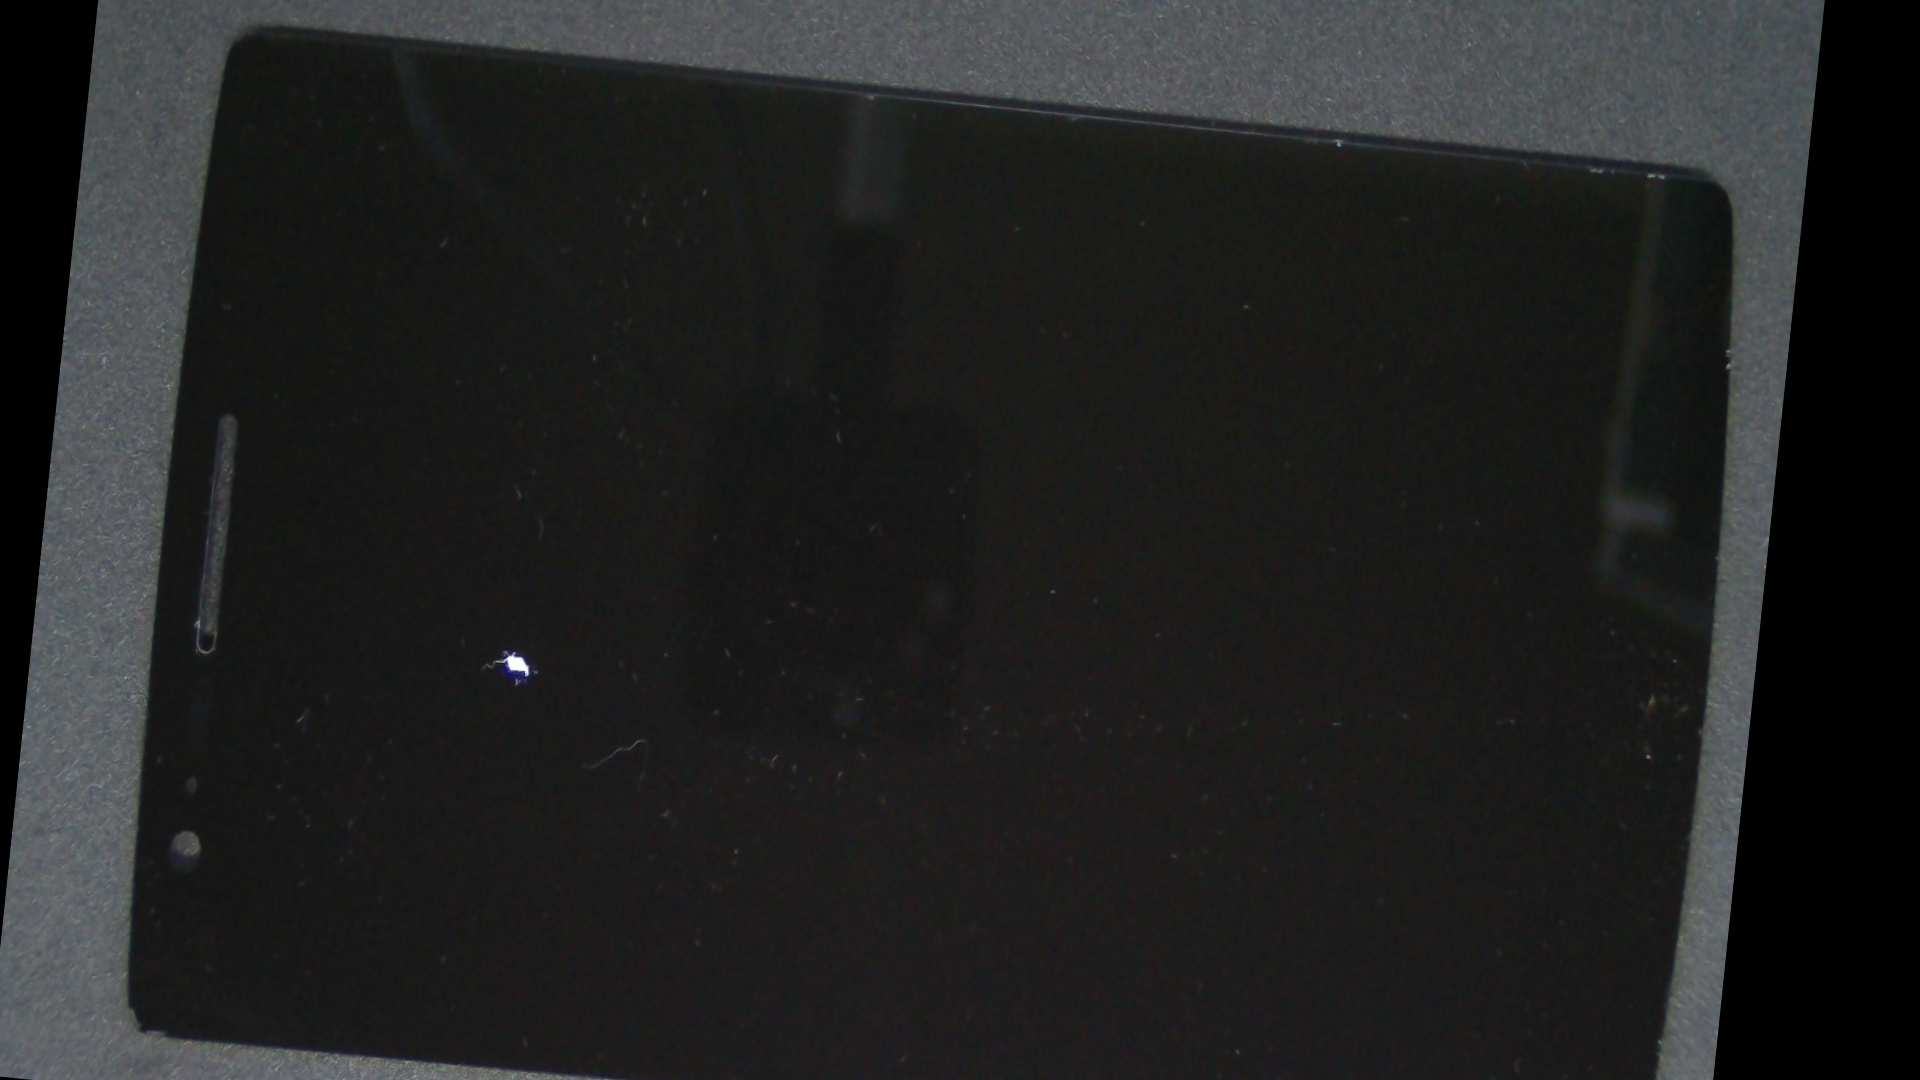oil: (236, 235, 796, 1063)
